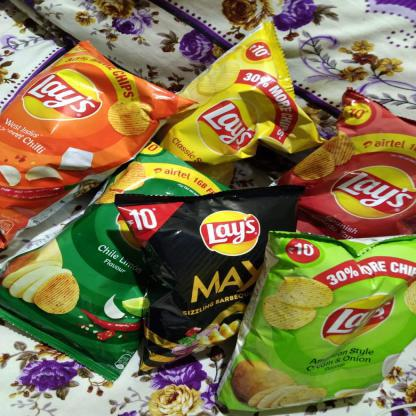chile_limon: (0, 196, 144, 360)
classicsalted: (159, 63, 301, 160)
cream_and_onion: (263, 239, 415, 415)
hot_and_sweet: (0, 41, 150, 187)
maxx_sizzling_barbeque: (124, 203, 250, 363)
tangy_tomato: (287, 85, 415, 241)
